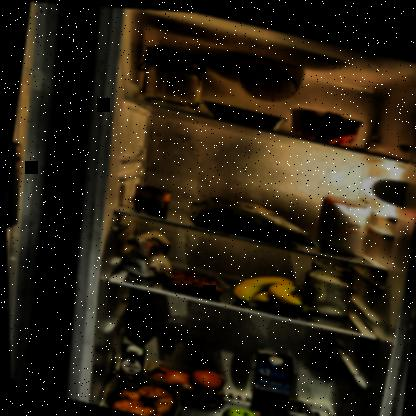apple: (215, 399, 296, 415)
banana: (227, 262, 322, 318)
corn: (130, 180, 170, 216)
heavy_cream: (114, 340, 145, 389)
milk: (242, 341, 299, 415)
onion: (136, 351, 226, 407)
potato: (102, 367, 182, 415)
shrimp: (164, 264, 226, 296)
spinach: (181, 184, 321, 248)
strawberries: (285, 98, 366, 146)
